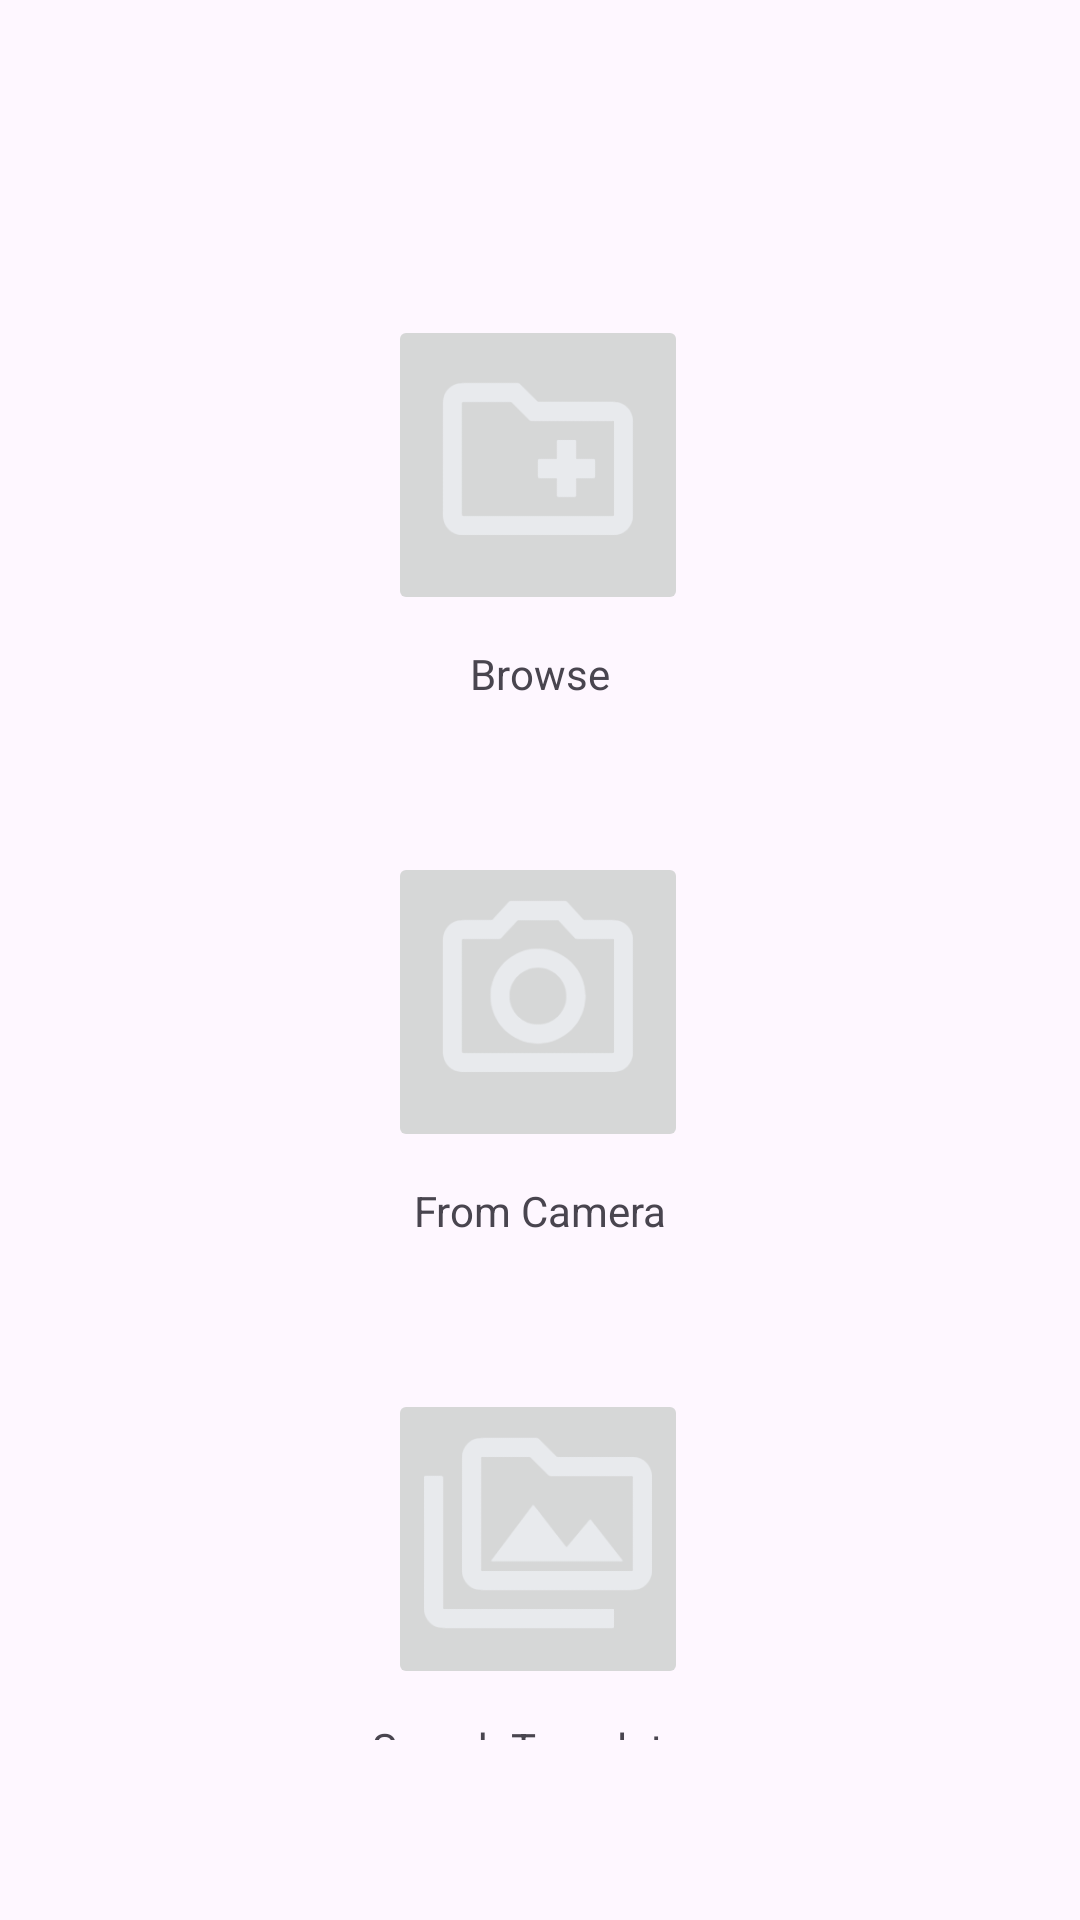

Where icons sit on this 1080w x 1920h app screen, as (x1, y1, x2, y2):
folder: (400, 333, 676, 597)
